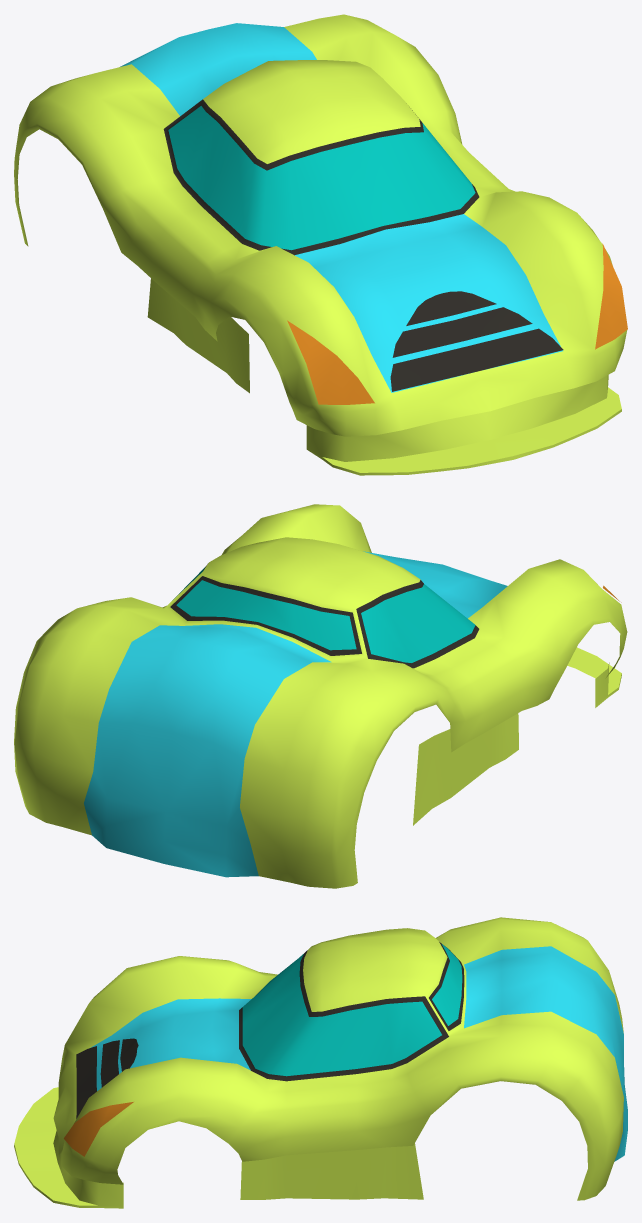
Rendered from LuxCasing01R01.gltf.
3 renders of one model, top to bottom at view 1: azimuth 30°, elevation 25°; view 2: azimuth 150°, elevation 25°; view 3: azimuth 270°, elevation 25°, orthographic. The views are drawn at different scales.
Visible parts, largest first — view 1: LuxCasing01R01; view 2: LuxCasing01R01; view 3: LuxCasing01R01.
Part boxes in pixels (x1,y1,x2,y2): LuxCasing01R01: (14,14,627,475); LuxCasing01R01: (14,504,627,888); LuxCasing01R01: (14,917,627,1208).
Bounding box in the file's own units: 0.2129 × 0.1281 × 0.3597.
